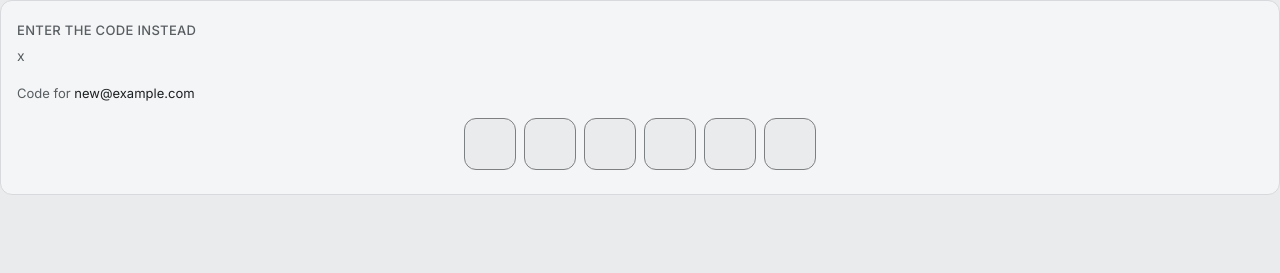
Test: OtpPanel — wrong code (FR-015, FR-025) › shows the foggy notice, clears all six digits, and refocuses box 1
Type "0" into the field named "Digit 1" at coordinates (490, 144), box [464, 118, 516, 170]
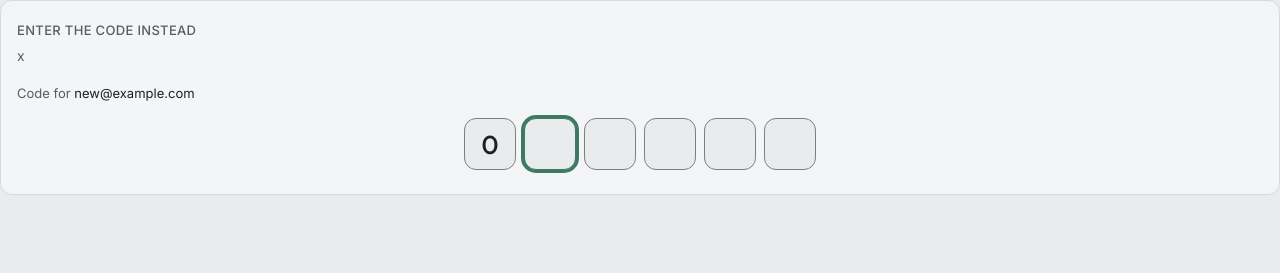
Type "0" into the field named "Digit 2" at coordinates (550, 144), box [524, 118, 576, 170]
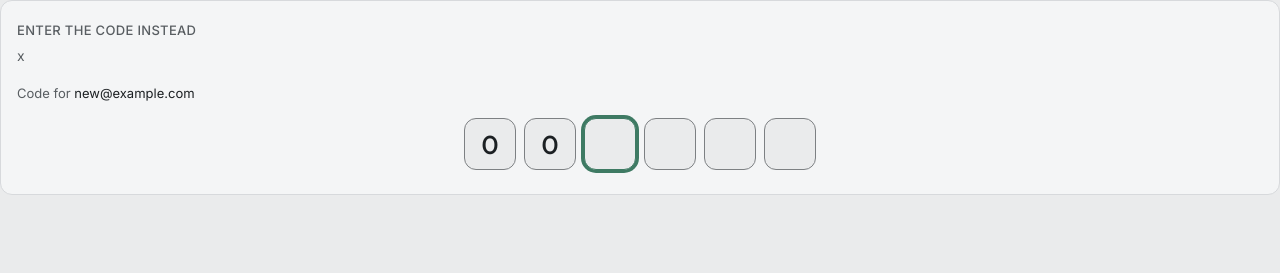
Type "0" into the field named "Digit 3" at coordinates (610, 144), box [584, 118, 636, 170]
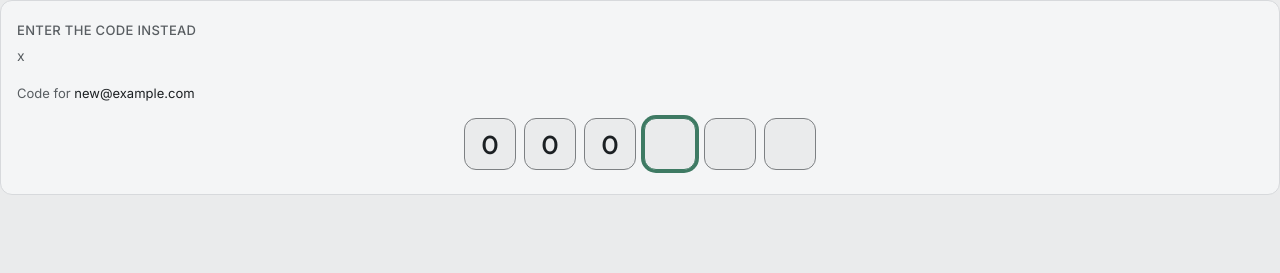
Type "0" into the field named "Digit 4" at coordinates (670, 144), box [644, 118, 696, 170]
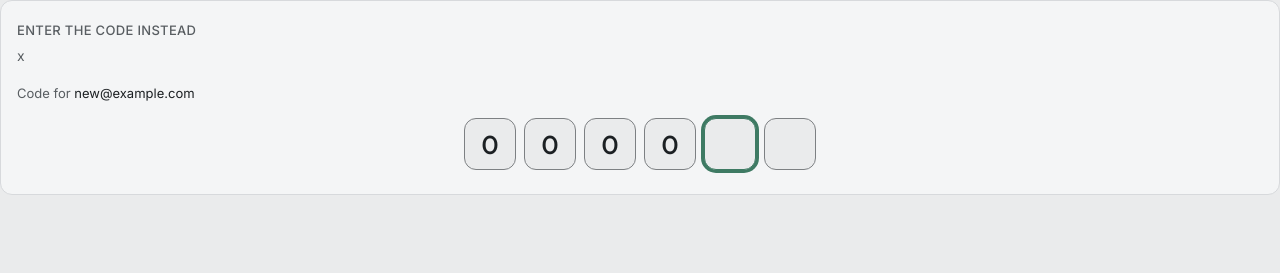
Type "0" into the field named "Digit 5" at coordinates (730, 144), box [704, 118, 756, 170]
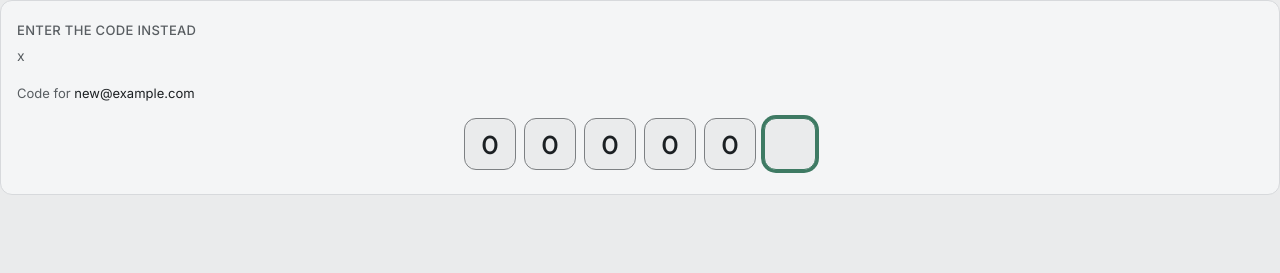
Type "0" into the field named "Digit 6" at coordinates (790, 144), box [764, 118, 816, 170]
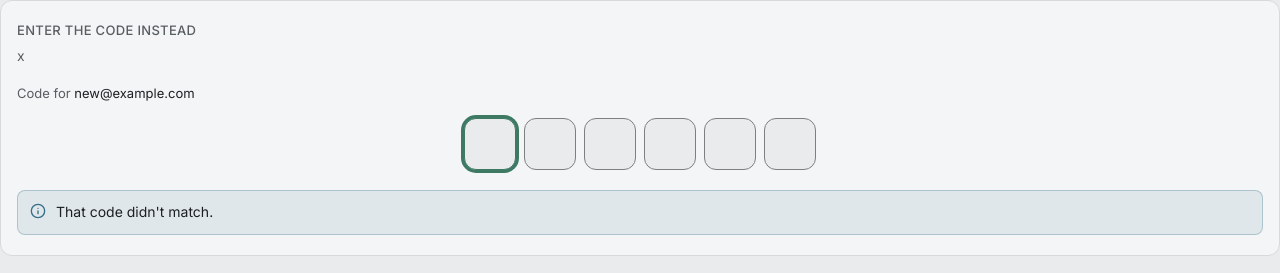
Check: the text "That code didn't match." is shown, box [56, 201, 213, 224]
